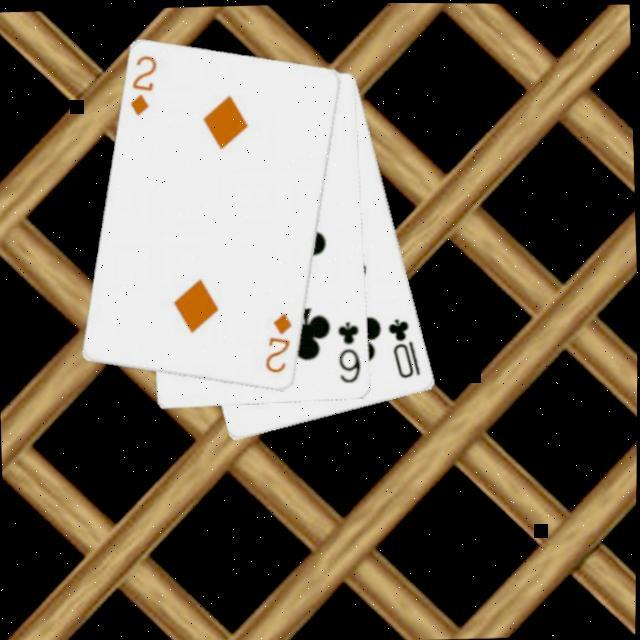10C: (386, 312, 426, 379)
2D: (262, 307, 298, 374), (127, 50, 163, 116)
6C: (336, 316, 367, 384)
